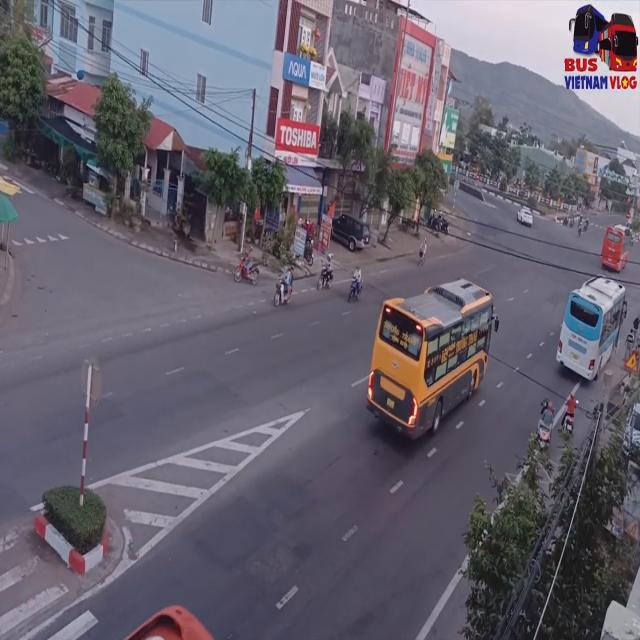bus: (368, 284, 498, 449), (554, 276, 627, 385), (599, 226, 628, 275)
motorbike: (234, 251, 260, 289), (274, 265, 294, 312), (538, 396, 553, 451), (563, 390, 577, 439), (348, 264, 362, 306), (319, 254, 333, 291)
